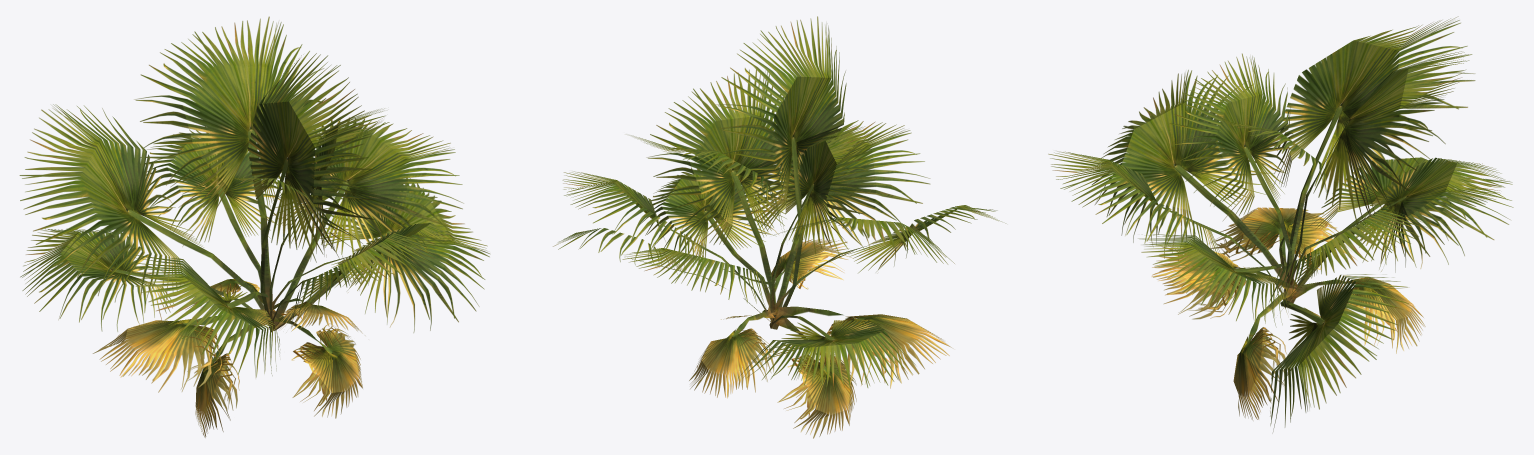
The model's file is stump_palm_dead_leaves.glb.
3 views of the same model, side by side, from view 1: azimuth 30°, elevation 25°; view 2: azimuth 150°, elevation 25°; view 3: azimuth 270°, elevation 25° (orthographic). The views are drawn at different scales.
Visible parts, largest first — view 1: world; view 2: world; view 3: world.
Boxes of the visible parts, box(x1,y1,x2,y2) form: world: box(19, 16, 489, 437); world: box(553, 16, 1005, 438); world: box(1048, 16, 1513, 431).
Bounding box in the file's own units: 26.29 × 20.4 × 22.2.
Materials: 1 (1 with a texture image).
